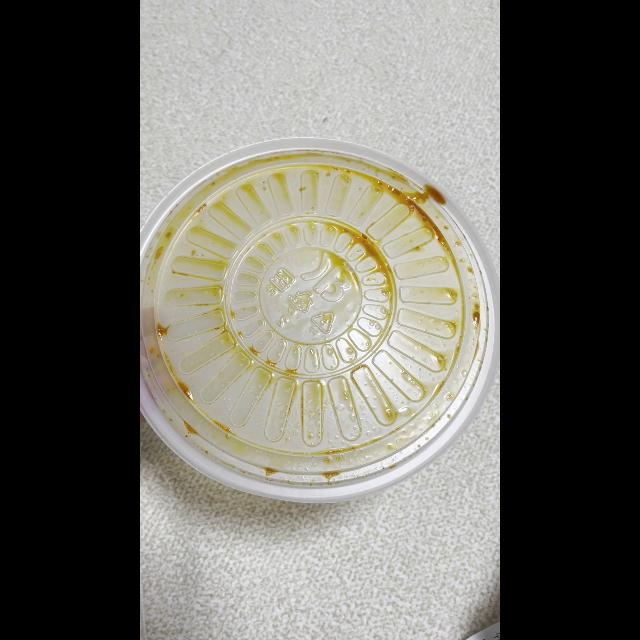dirty: (140, 138, 492, 490)
